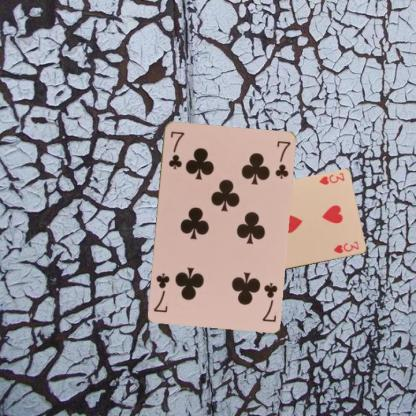3h: (316, 170, 346, 186)
7c: (259, 280, 278, 323), (166, 128, 185, 170)
